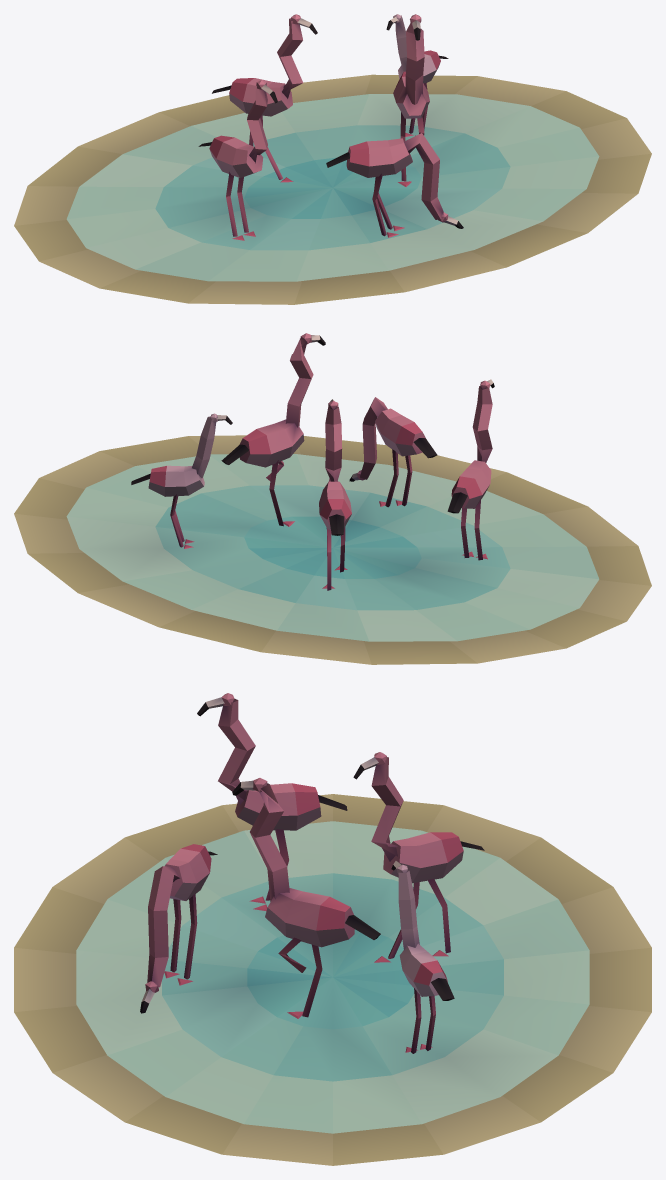
Rendered from flamingos.glb.
3 views of the same model, one above another, from view 1: azimuth 30°, elevation 25°; view 2: azimuth 150°, elevation 25°; view 3: azimuth 270°, elevation 25° (orthographic). The views are drawn at different scales.
Visible parts, largest first — view 1: lagoon, flamingo_2, flamingo_1, flamingo_4, flamingo_3, flamingo_5; view 2: lagoon, flamingo_3, flamingo_2, flamingo_1, flamingo_4, flamingo_5; view 3: lagoon, flamingo_3, flamingo_4, flamingo_2, flamingo_1, flamingo_5.
Boxes of the visible parts, x1,y1,x2,y2 form: lagoon: (14,74,651,304); flamingo_2: (326,133,463,237); flamingo_1: (198,80,277,240); flamingo_4: (212,14,317,182); flamingo_3: (393,14,429,186); flamingo_5: (386,14,448,136); lagoon: (14,435,651,664); flamingo_3: (221,333,325,526); flamingo_2: (349,397,437,507); flamingo_1: (447,379,494,560); flamingo_4: (319,399,351,590); flamingo_5: (131,413,232,548); lagoon: (14,794,651,1165); flamingo_3: (232,778,380,1018); flamingo_4: (353,752,484,962); flamingo_2: (140,844,217,1013); flamingo_1: (197,693,347,911); flamingo_5: (391,861,454,1053).
Bounding box in the file's own units: 25 × 7.46 × 18.12.
